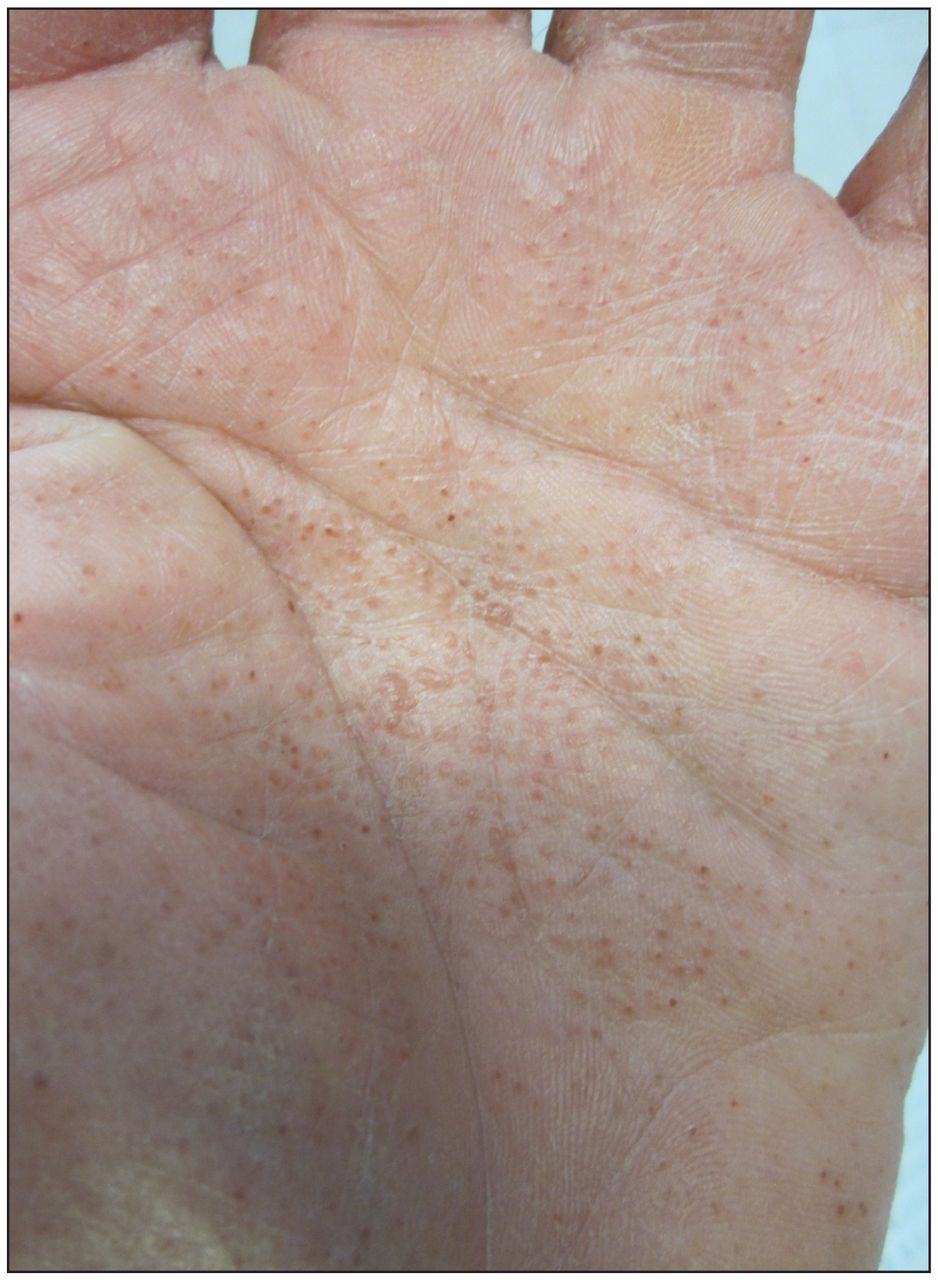Diseased: (22, 110, 873, 1130)
